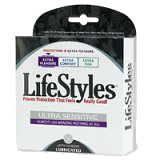grozi_91: (14, 5, 140, 156)
